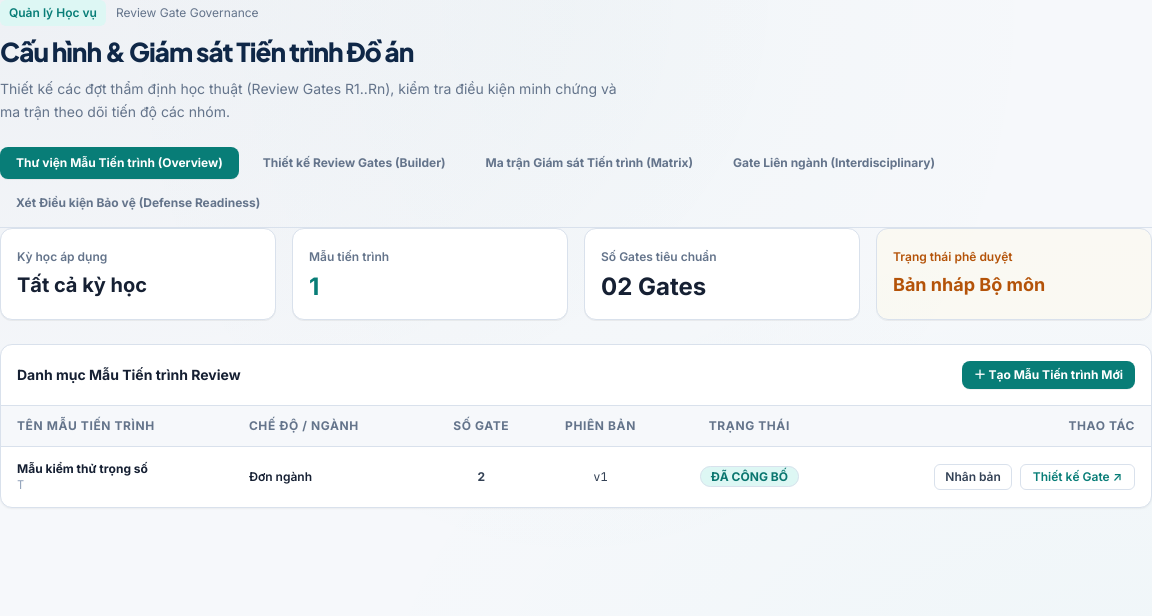
batch 1 template form › makes a published template read-only and offers cloning
The width and height of the screenshot is (1152, 616).
Expected: the text "Mẫu kiểm thử trọng số" is shown, top-left (17, 461), bottom-right (148, 476)
Click the button "Thiết kế Review Gates (Builder)". click: point(354, 163)
box: top-left (247, 147), bottom-right (462, 179)
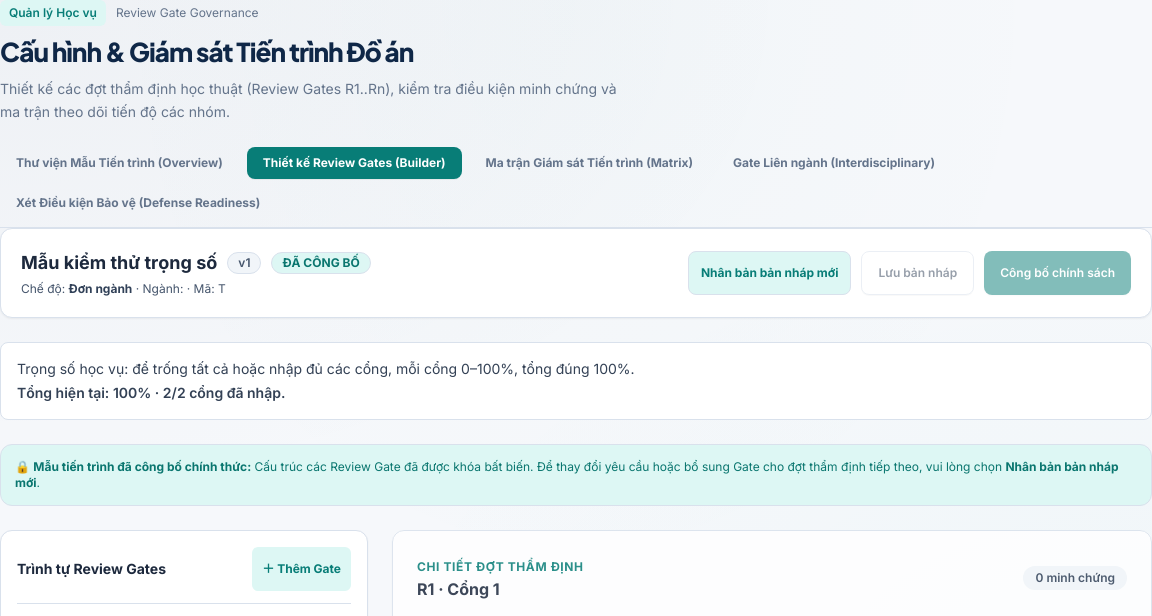
Expected: the button "＋ Thêm Gate" is disabled, top-left (252, 547), bottom-right (351, 591)
Expected: the button "Nhân bản bản nháp mới" is shown, top-left (688, 251), bottom-right (852, 295)
